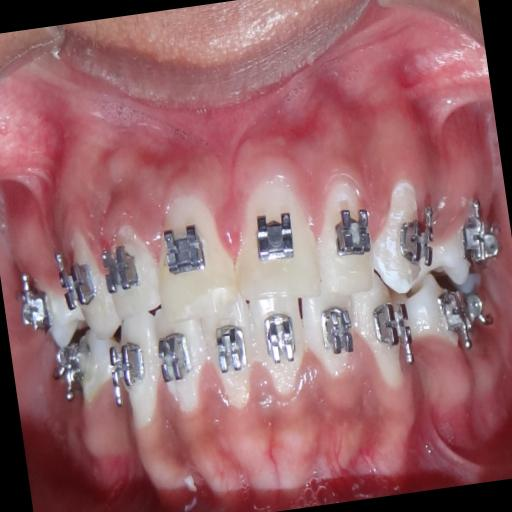correct_brace: (386, 198, 440, 282), (366, 298, 418, 382), (157, 214, 214, 286), (327, 192, 375, 274), (108, 330, 154, 412), (250, 205, 306, 272), (57, 250, 103, 320), (258, 308, 302, 380), (211, 317, 253, 388), (316, 301, 358, 370), (158, 328, 200, 395), (101, 241, 144, 300)
incorrect_brace: (308, 166, 378, 298), (96, 216, 162, 320), (155, 313, 216, 423), (298, 289, 360, 383)
